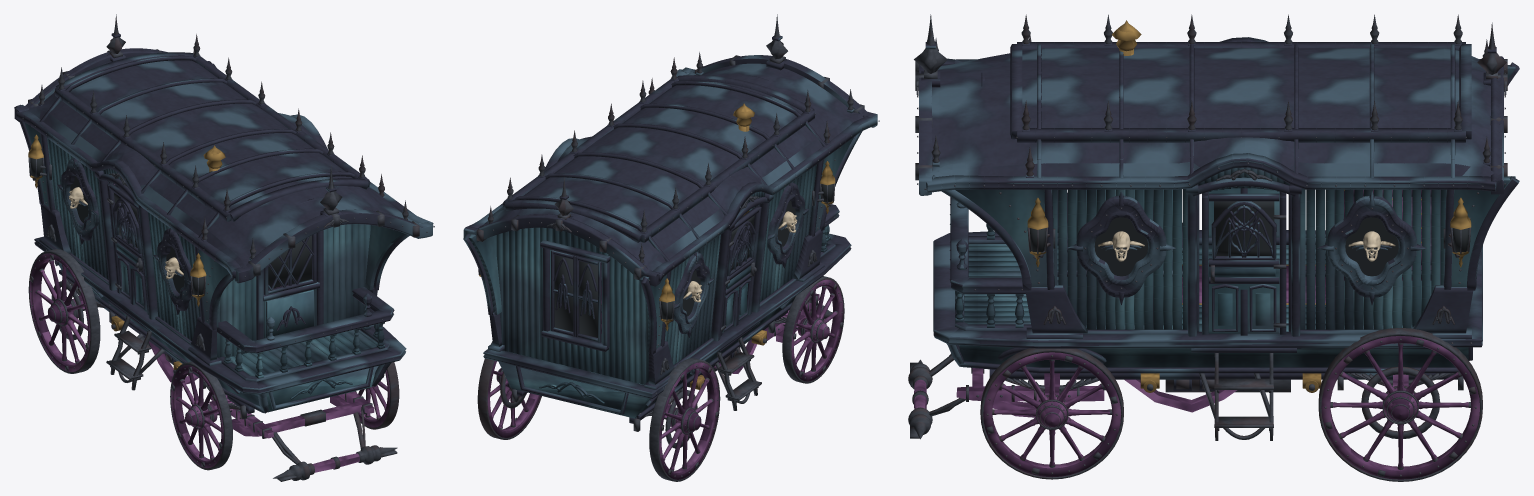
File: gothic_carriage.glb
The picture shows the model from 3 angles, left to right: view 1: azimuth 30°, elevation 25°; view 2: azimuth 150°, elevation 25°; view 3: azimuth 270°, elevation 25°; orthographic projection. The views are drawn at different scales.
Parts seen in each view (by area): view 1: Roof_SlateStructure, Body_SlateTrim, Body_TealWood, Undercarriage_Iron, Wheel_RL_Wood, Roof_IronFinialsAndHardware, Wheel_FL_Wood, Undercarriage_PurpleWood, Wheel_RL_Iron, Wheel_FL_Iron, Door_L_Slate, Window_Front_Slate (+8 smaller); view 2: Roof_SlateStructure, Body_TealWood, Body_SlateTrim, Wheel_RL_Wood, Roof_IronFinialsAndHardware, Wheel_FL_Wood, Wheel_RL_Iron, Undercarriage_Iron, Wheel_FL_Iron, Door_L_Slate, Wheel_RR_Wood, Window_Rear_L_Slate (+10 smaller); view 3: Roof_SlateStructure, Body_TealWood, Body_SlateTrim, Wheel_RR_Wood, Wheel_FR_Wood, Undercarriage_Iron, Roof_IronFinialsAndHardware, Door_R_Slate, Wheel_RR_Iron, Undercarriage_PurpleWood, Door_R_Teal, Body_DarkGlass (+14 smaller).
Boxes of the visible parts, x1,y1,x2,y2 form: Roof_SlateStructure: [14, 33, 433, 283]; Body_SlateTrim: [14, 104, 421, 413]; Body_TealWood: [21, 105, 404, 412]; Undercarriage_Iron: [62, 271, 397, 481]; Wheel_RL_Wood: [29, 253, 90, 371]; Roof_IronFinialsAndHardware: [22, 14, 434, 277]; Wheel_FL_Wood: [171, 365, 223, 468]; Undercarriage_PurpleWood: [73, 295, 374, 472]; Wheel_RL_Iron: [28, 249, 100, 373]; Wheel_FL_Iron: [170, 361, 232, 470]; Door_L_Slate: [107, 183, 148, 314]; Window_Front_Slate: [263, 233, 316, 295]; Roof_SlateStructure: [463, 35, 877, 286]; Body_TealWood: [468, 137, 853, 418]; Body_SlateTrim: [463, 72, 866, 419]; Wheel_RL_Wood: [659, 362, 719, 479]; Roof_IronFinialsAndHardware: [476, 14, 879, 280]; Wheel_FL_Wood: [791, 279, 843, 381]; Wheel_RL_Iron: [649, 358, 720, 481]; Undercarriage_Iron: [512, 292, 832, 431]; Wheel_FL_Iron: [782, 276, 844, 383]; Door_L_Slate: [720, 206, 761, 336]; Wheel_RR_Wood: [487, 361, 540, 437]; Window_Rear_L_Slate: [575, 256, 601, 342]; Roof_SlateStructure: [919, 37, 1503, 195]; Body_TealWood: [955, 65, 1515, 367]; Body_SlateTrim: [932, 62, 1519, 373]; Wheel_RR_Wood: [1321, 336, 1479, 479]; Wheel_FR_Wood: [983, 352, 1121, 477]; Undercarriage_Iron: [908, 353, 1463, 440]; Roof_IronFinialsAndHardware: [914, 14, 1507, 189]; Door_R_Slate: [1202, 193, 1286, 335]; Wheel_RR_Iron: [1318, 328, 1482, 481]; Undercarriage_PurpleWood: [913, 368, 1408, 417]; Door_R_Teal: [1208, 263, 1279, 333]; Body_DarkGlass: [1094, 217, 1398, 276].
Bounding box in the file's own units: 2.36 × 3.47 × 4.69.
7 materials, 6 textured.
